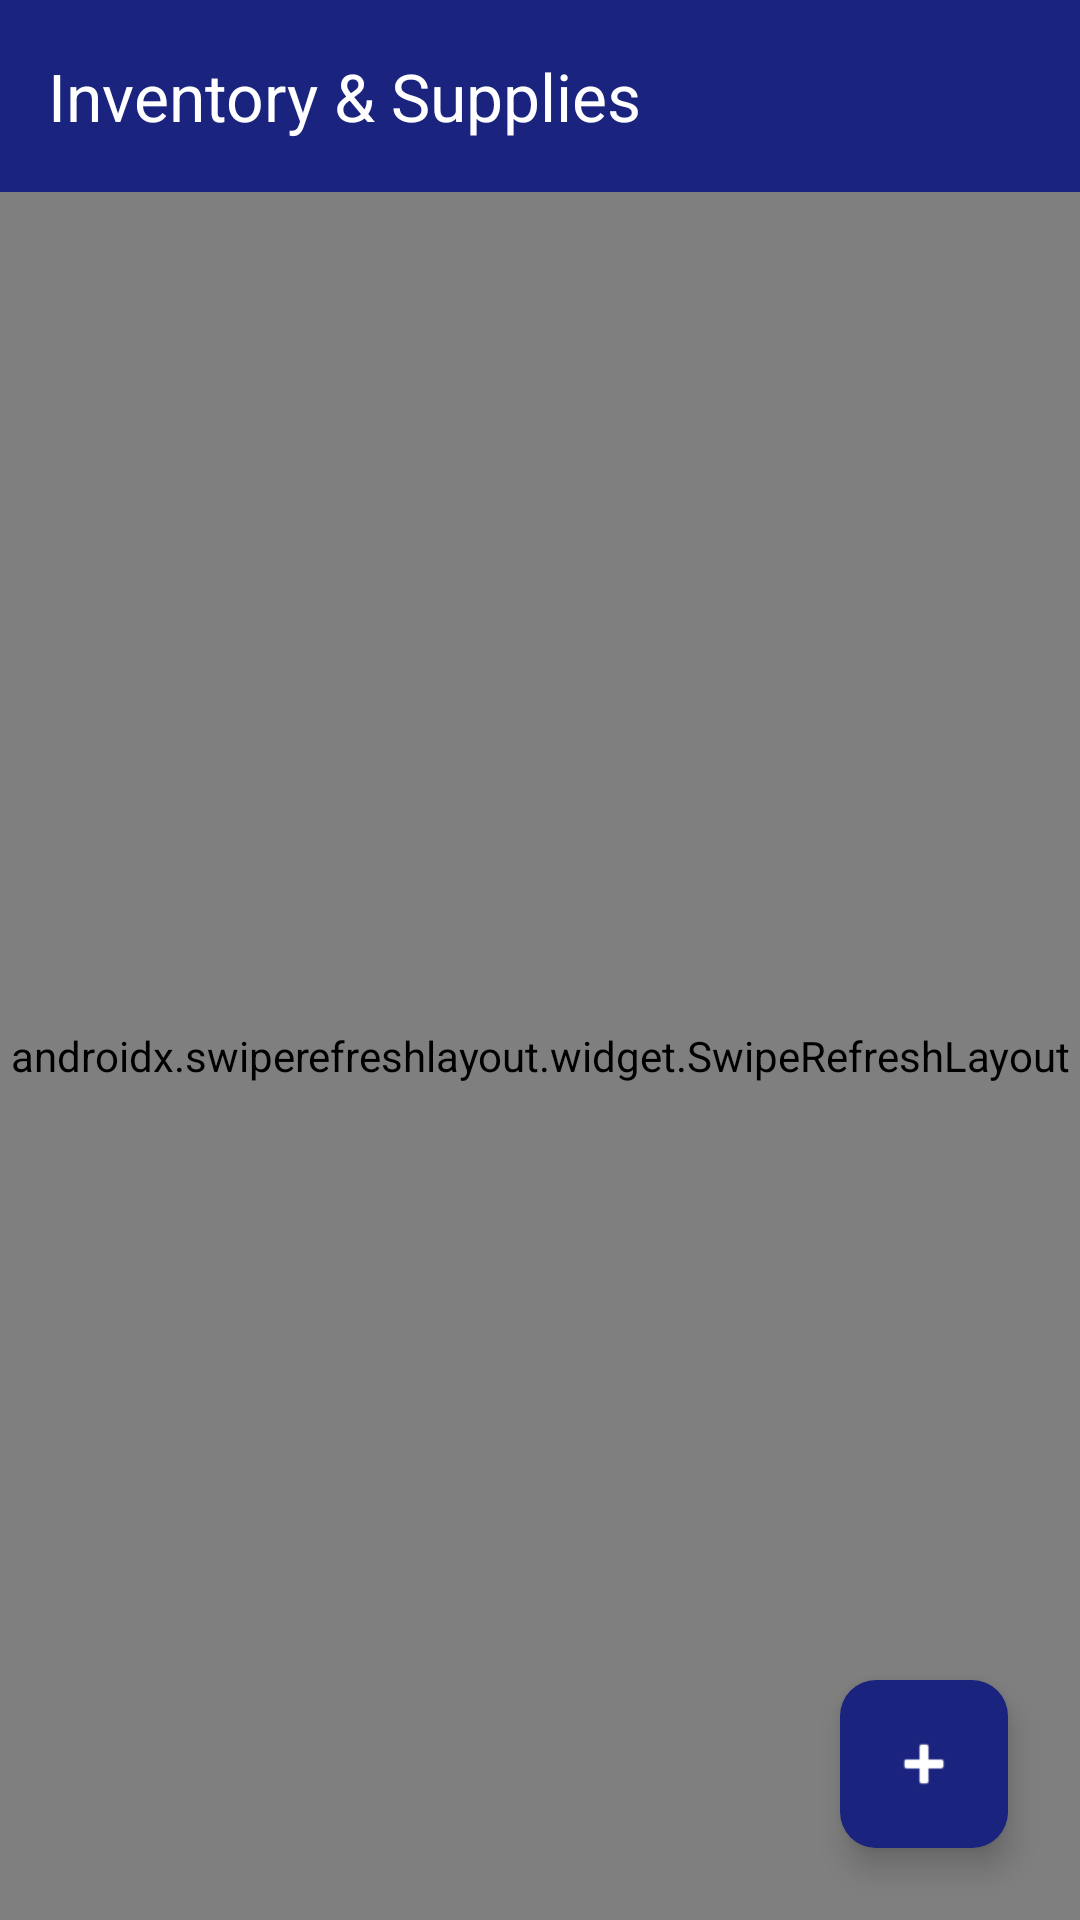

Where to tap for icons on this 1080*1920 app screen, as (x,y):
Add inventory item: (924,1764)
